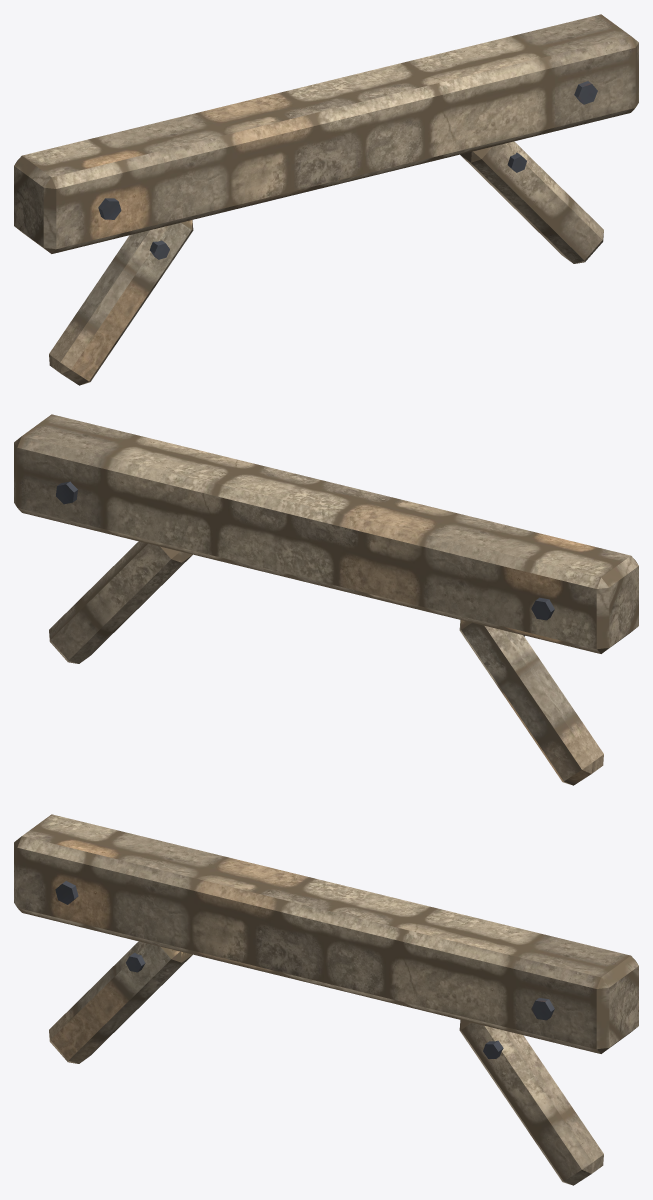
Rendered from kiris.glb.
3 renders of one model, top to bottom at view 1: azimuth 30°, elevation 25°; view 2: azimuth 150°, elevation 25°; view 3: azimuth 330°, elevation 25°, orthographic.
Parts seen in each view (by area): view 1: kiris; view 2: kiris; view 3: kiris.
Part boxes in pixels (box(x1,y1,x2,y2)): kiris: box(14, 14, 638, 385); kiris: box(14, 414, 638, 785); kiris: box(14, 814, 638, 1185).
Size of the model in its own units: 3 by 1.08 by 0.41.
1 material, 1 textured.
